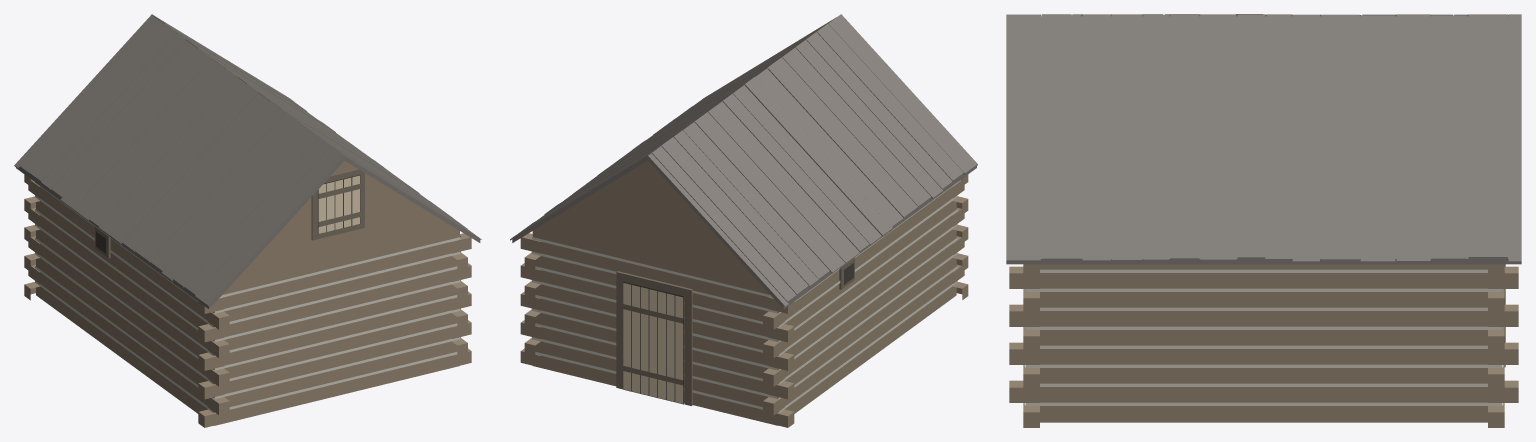
Rendered from recon_1835_south_a1_046__inferred_1835.glb.
3 views of the same model, side by side, from view 1: azimuth 30°, elevation 25°; view 2: azimuth 150°, elevation 25°; view 3: azimuth 270°, elevation 25° (orthographic). The views are drawn at different scales.
Visible parts, largest first — view 1: recon_1835_south_a1_046__inferred_1835; view 2: recon_1835_south_a1_046__inferred_1835; view 3: recon_1835_south_a1_046__inferred_1835.
Boxes of the visible parts, x1=… form: recon_1835_south_a1_046__inferred_1835: x1=14, y1=14, x2=481, y2=427; recon_1835_south_a1_046__inferred_1835: x1=510, y1=14, x2=977, y2=427; recon_1835_south_a1_046__inferred_1835: x1=1006, y1=14, x2=1521, y2=427.
Size of the model in its own units: 6.14 by 5.24 by 7.44.
